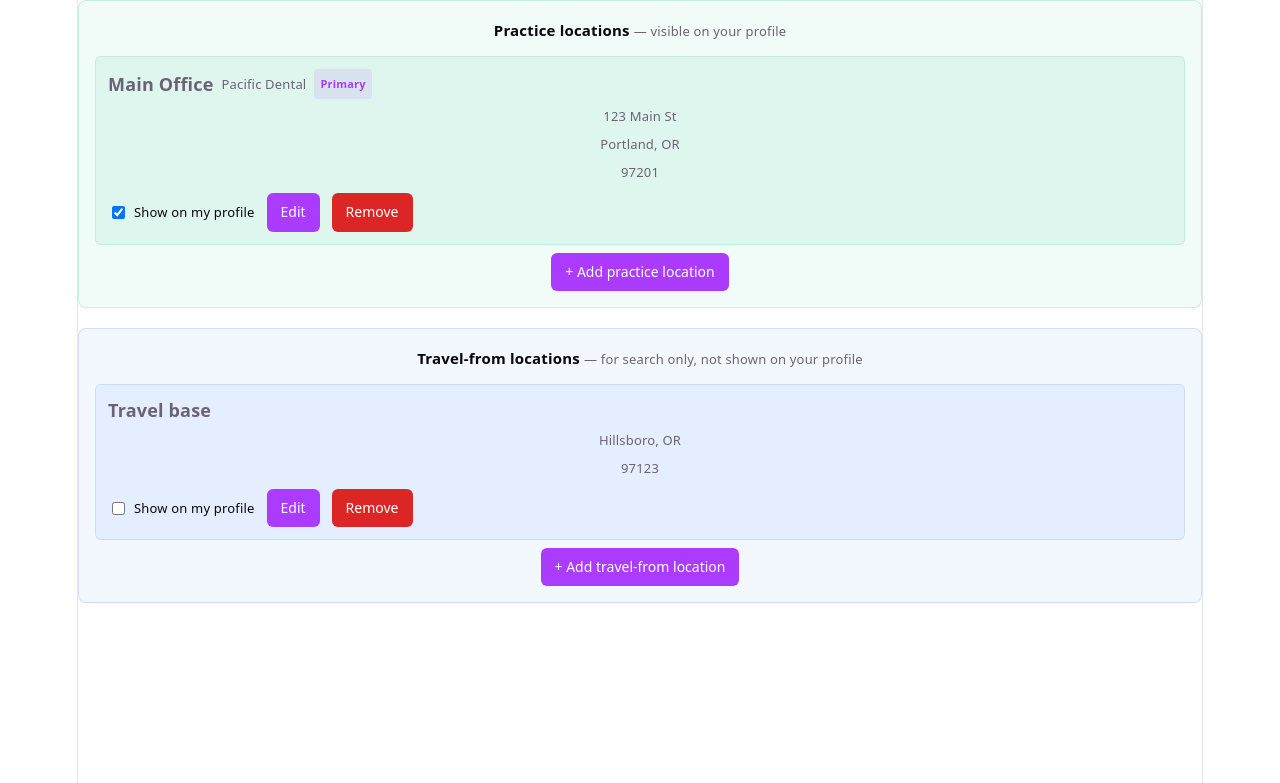
Test: LocationEntry › submits add form and renders the new location card
The width and height of the screenshot is (1280, 783).
Expected: the text "Main Office" is shown, [108,71,214,97]
Note: Open the public add form
Click the button "+ Add practice location" at (640, 272), box [551,253,729,291]
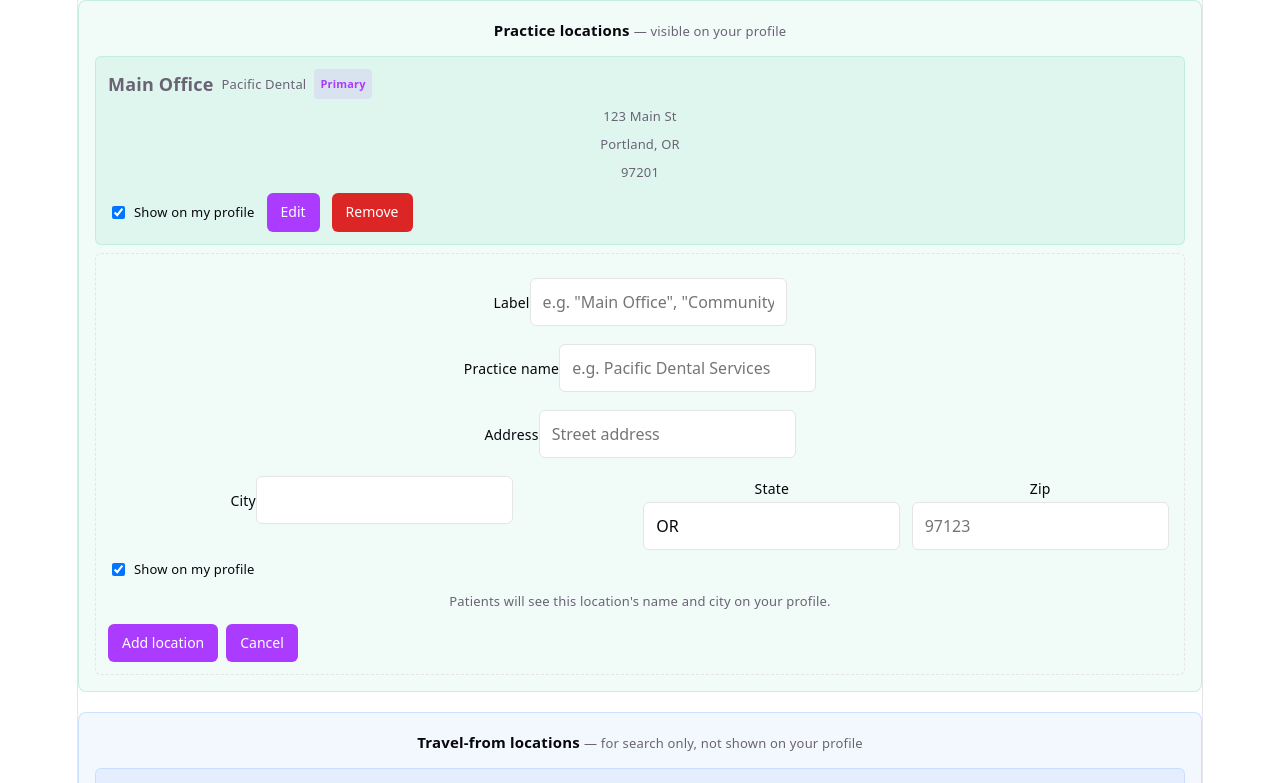
Type "Community Clinic" into the field labelled "Label" at (658, 302), box [530,278,787,326]
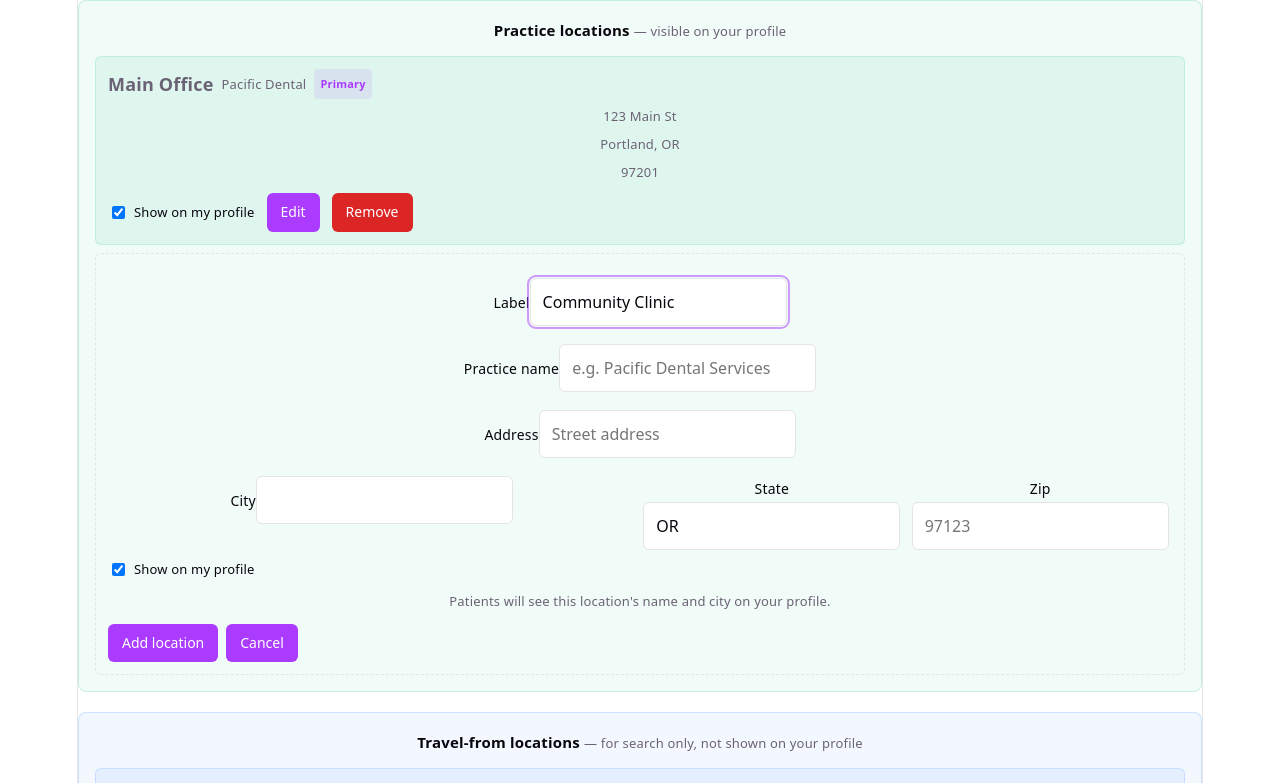
Click the button "Add location" at (163, 643), box [108,624,218,662]
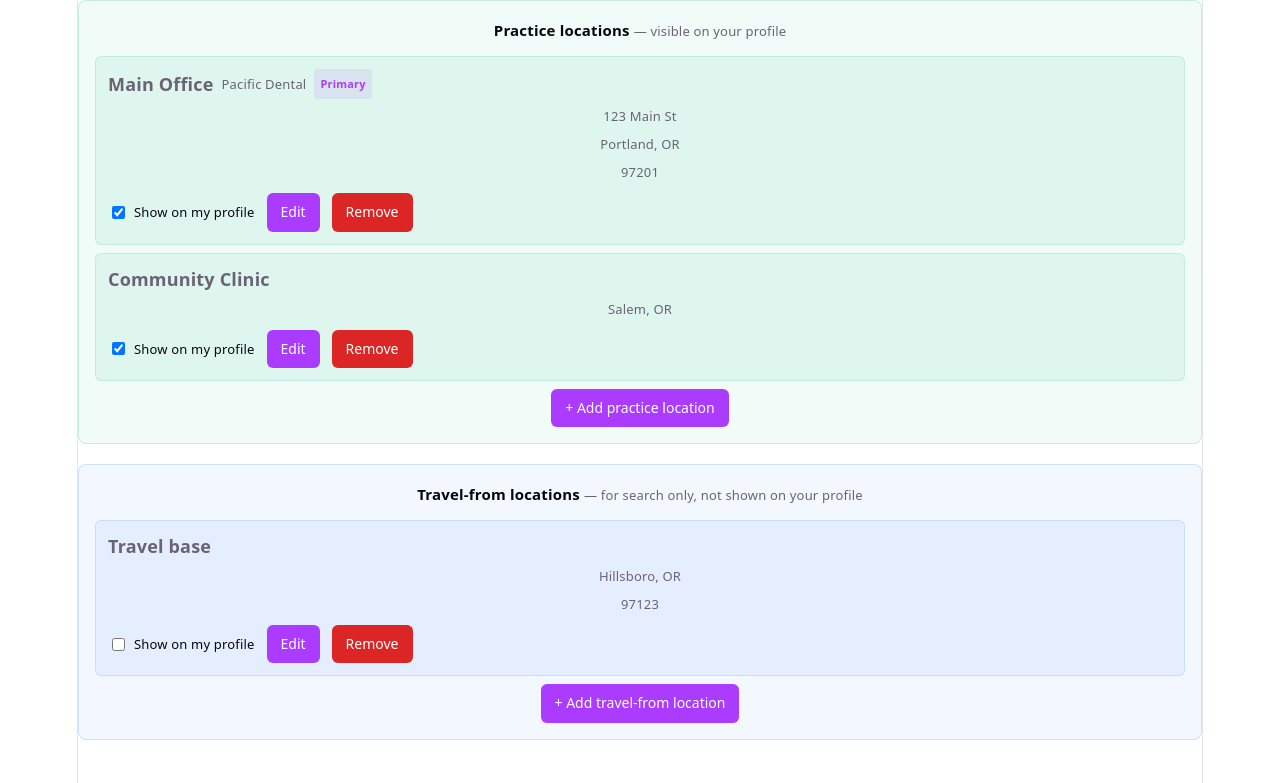
Now the text "Community Clinic" is shown, box [108,266,270,292]
